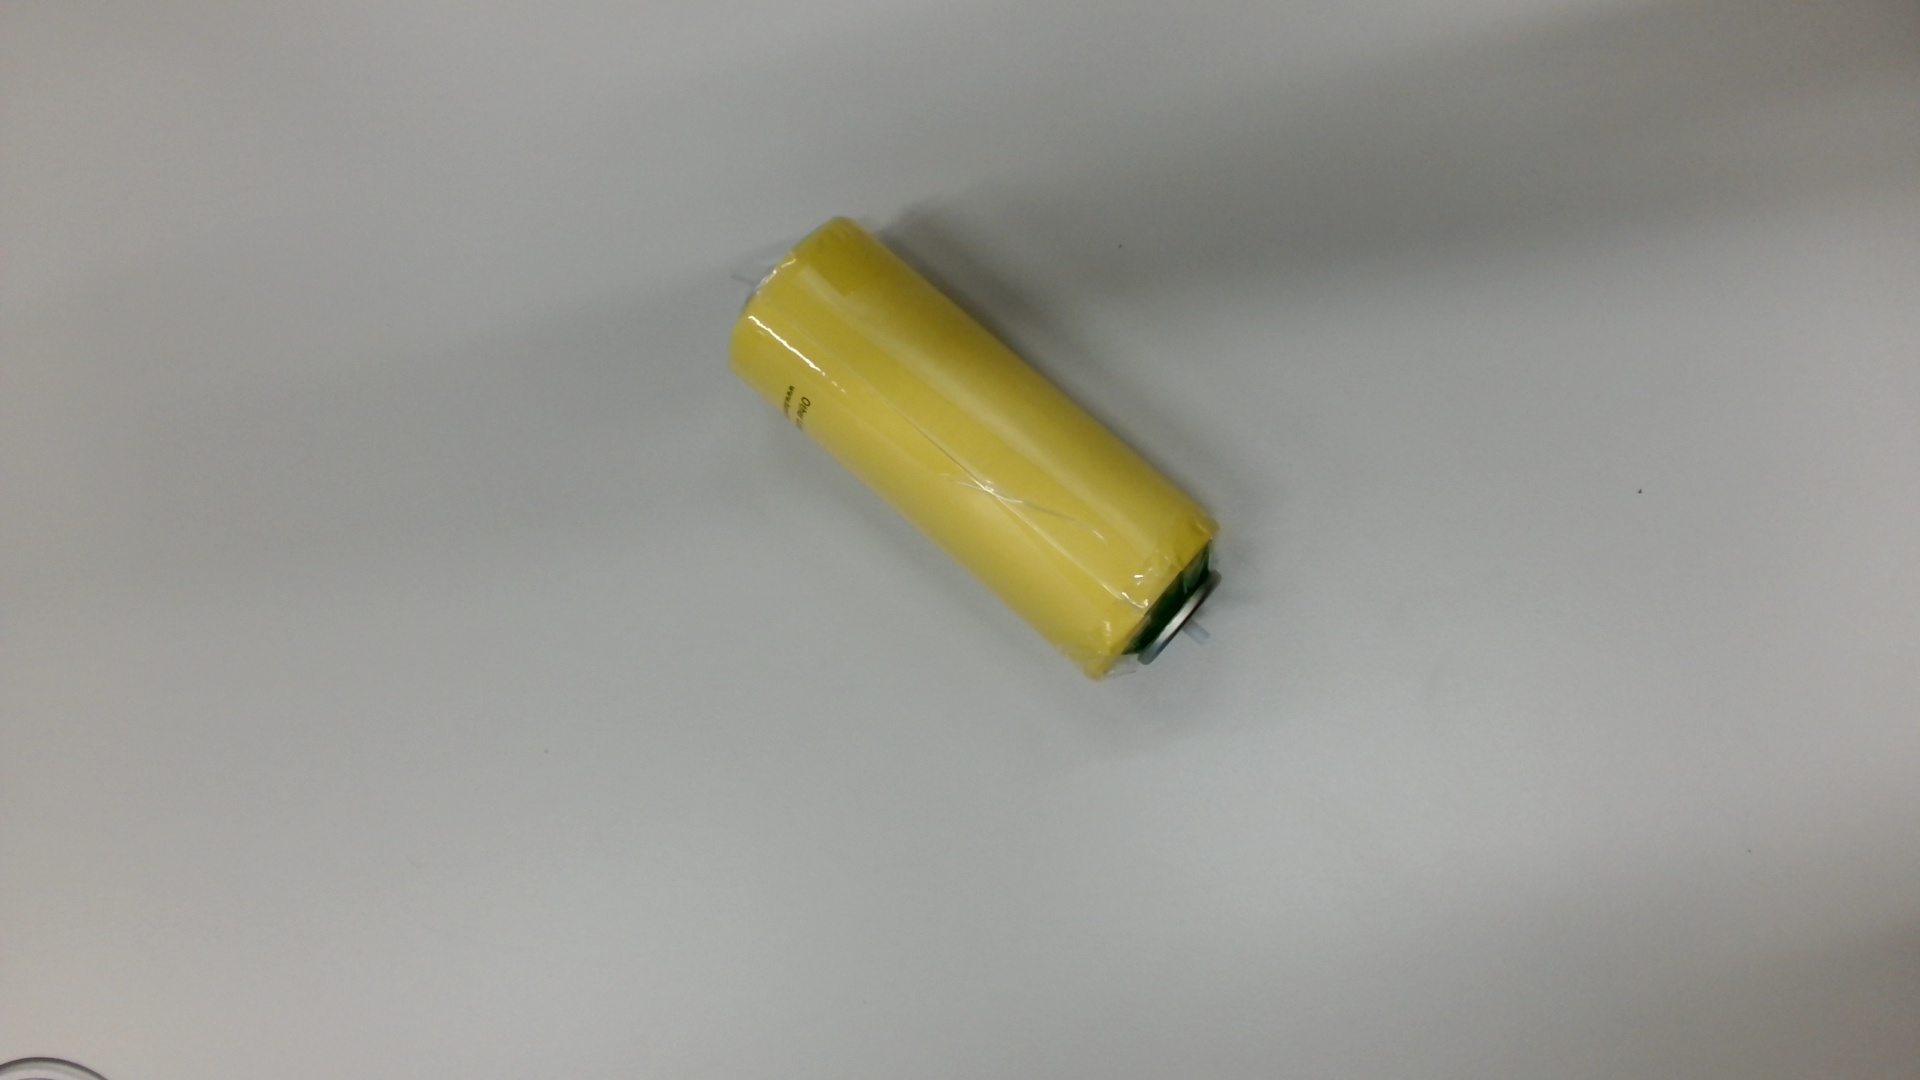Cylinder: (716, 207, 1249, 695)
